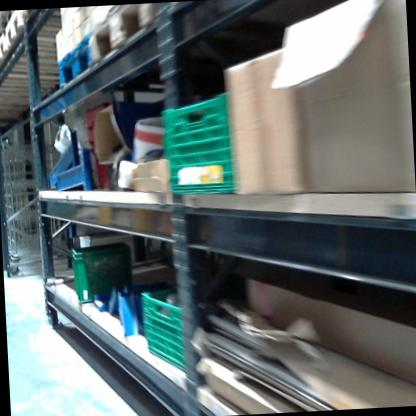pallet: (0, 27, 100, 83), (81, 6, 158, 77), (6, 7, 90, 51), (53, 26, 95, 87), (0, 21, 12, 52), (0, 12, 9, 29)
